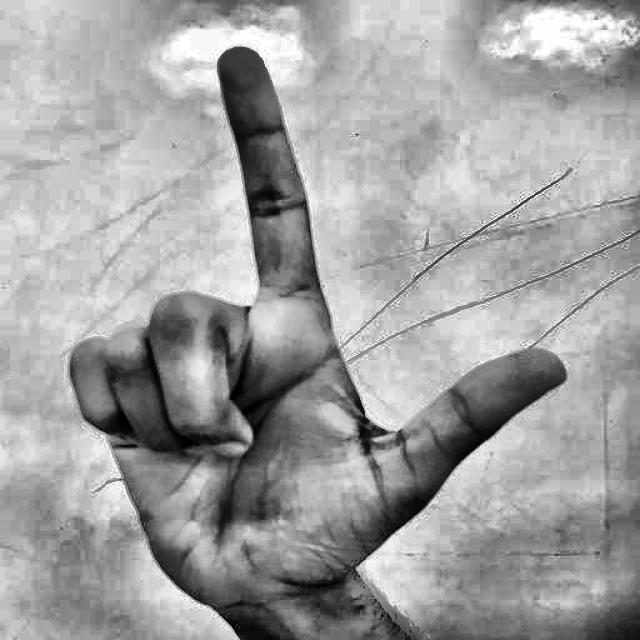La: (26, 22, 582, 638)
